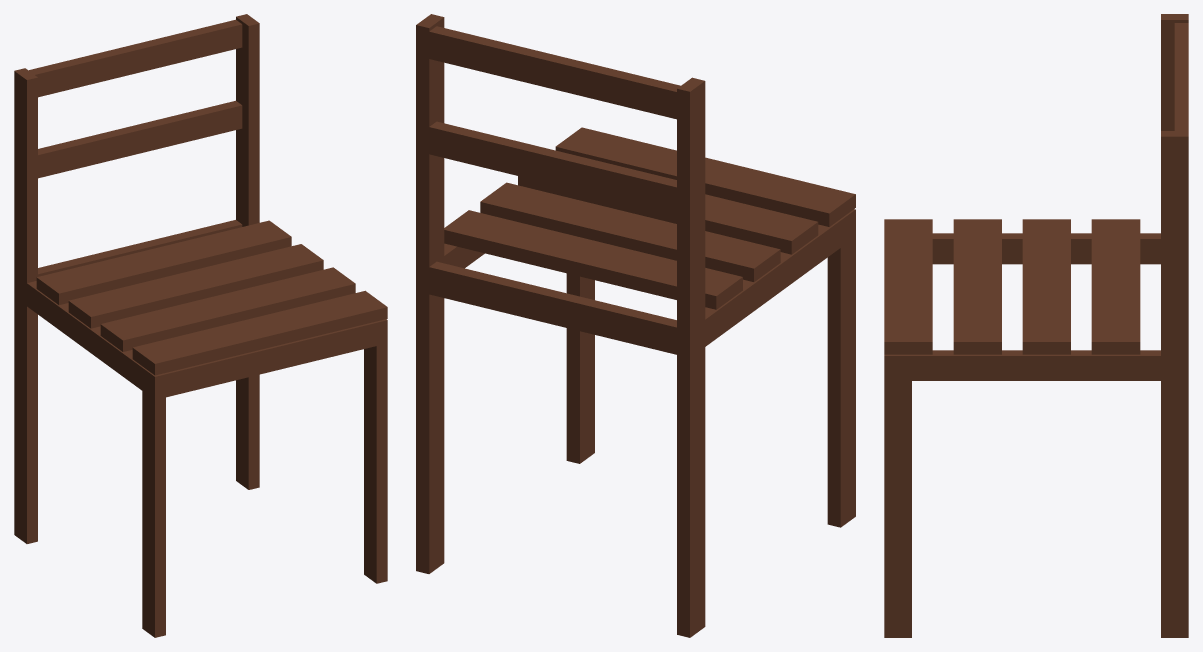
Rendered from Silla_madera.fbx.
3 renders of one model, left to right at view 1: azimuth 30°, elevation 25°; view 2: azimuth 150°, elevation 25°; view 3: azimuth 270°, elevation 25°, orthographic. The views are drawn at different scales.
Parts seen in each view (by area): view 1: silla_madera; view 2: silla_madera; view 3: silla_madera.
Part boxes in pixels (<box>): silla_madera: <box>14,14,387,637</box>; silla_madera: <box>416,14,855,637</box>; silla_madera: <box>884,14,1188,637</box>.
Size of the model in its own units: 42 by 80 by 44.
